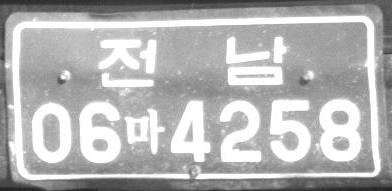0: (30, 101, 72, 163)
2: (219, 98, 262, 164)
4: (170, 98, 211, 162)
5: (269, 98, 312, 163)
6: (77, 99, 121, 164)
8: (319, 97, 362, 162)
마: (123, 106, 166, 156)
전남_D: (98, 35, 286, 87)
